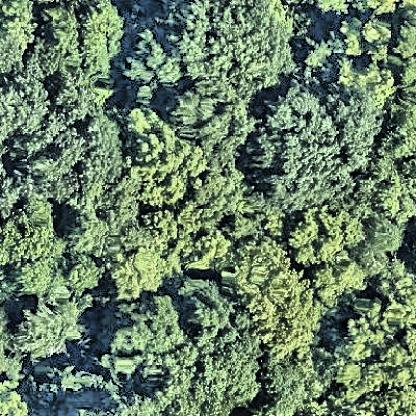tree-top: (128, 4, 299, 142), (109, 281, 260, 416), (9, 87, 132, 200), (248, 84, 346, 214), (326, 282, 416, 415), (230, 240, 330, 356), (118, 100, 202, 209), (308, 20, 399, 94), (1, 196, 67, 296), (15, 291, 93, 360), (74, 200, 156, 265), (103, 296, 185, 358), (285, 204, 363, 267), (263, 349, 325, 416), (78, 3, 128, 85), (382, 114, 416, 226), (202, 178, 266, 237), (341, 97, 378, 174), (1, 3, 37, 82), (1, 377, 33, 416)
